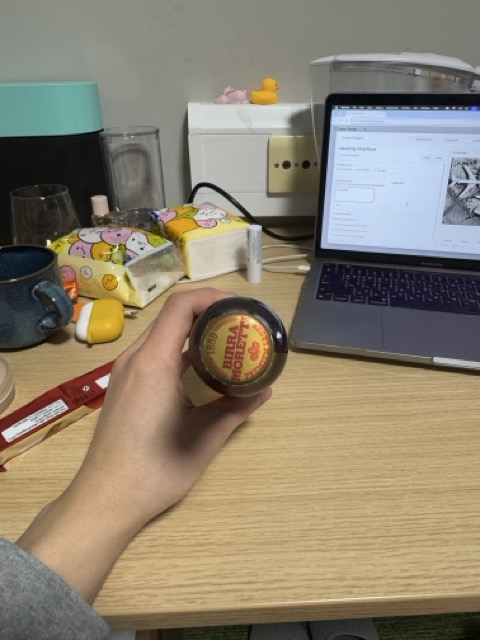beer: (192, 300, 288, 398)
